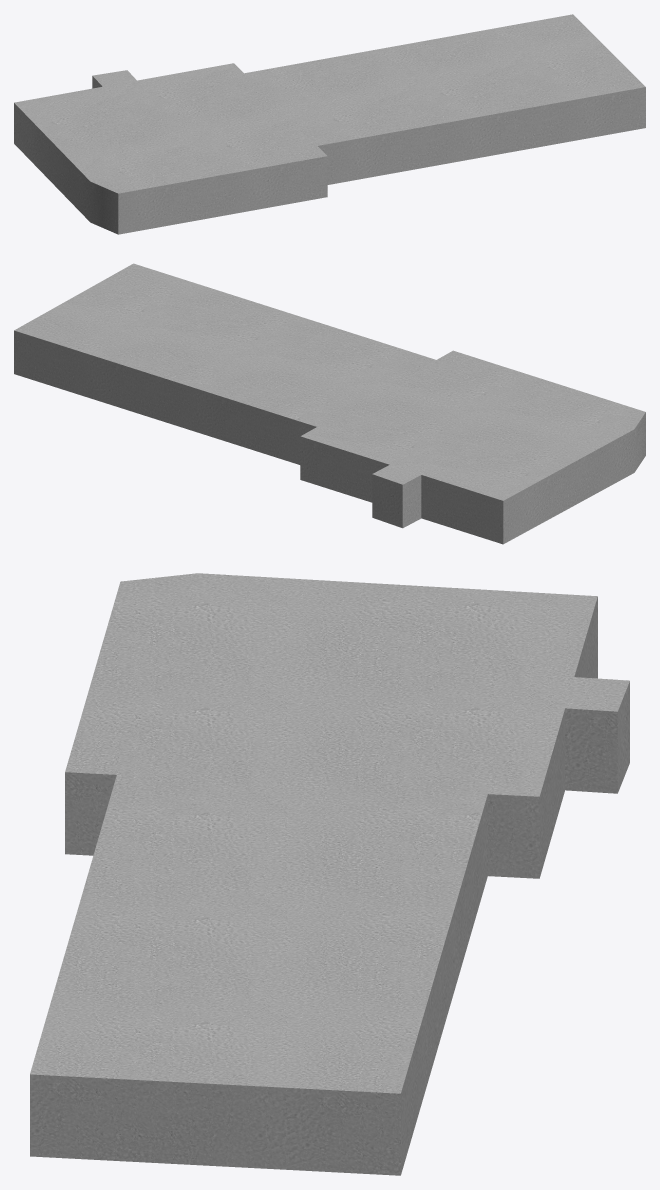
Rendered from foundation for E4.FBX.
3 renders of one model, top to bottom at view 1: azimuth 30°, elevation 25°; view 2: azimuth 150°, elevation 25°; view 3: azimuth 270°, elevation 25°, orthographic. The views are drawn at different scales.
Parts seen in each view (by area): view 1: Object494; view 2: Object494; view 3: Object494.
Boxes of the visible parts, left/top/right/bottom form: Object494: left=14, top=14, right=645, bottom=234; Object494: left=14, top=263, right=645, bottom=544; Object494: left=30, top=573, right=629, bottom=1175.
Bounding box in the file's own units: 490 × 36 × 239.
1 material, 1 textured.
